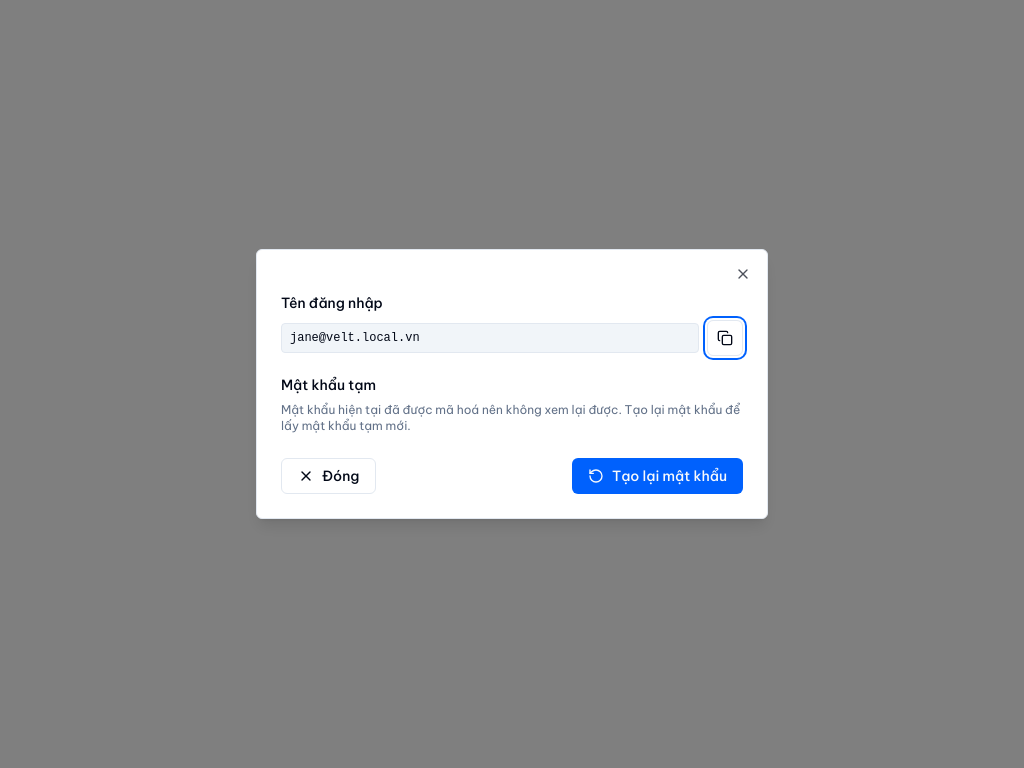
Test: UserCredentialsDialog › regenerate asks the server for a new temporary password and shows it
This screenshot has width=1024, height=768.
Expected: the text "Mật khẩu hiện tại đã được mã hoá nên không xem lại được. Tạo lại mật khẩu để lấy mật khẩu tạm mới." is shown, top-left (281, 402), bottom-right (740, 433)
Click the button "Tạo lại mật khẩu" at [657, 476], box top-left (572, 458), bottom-right (743, 494)
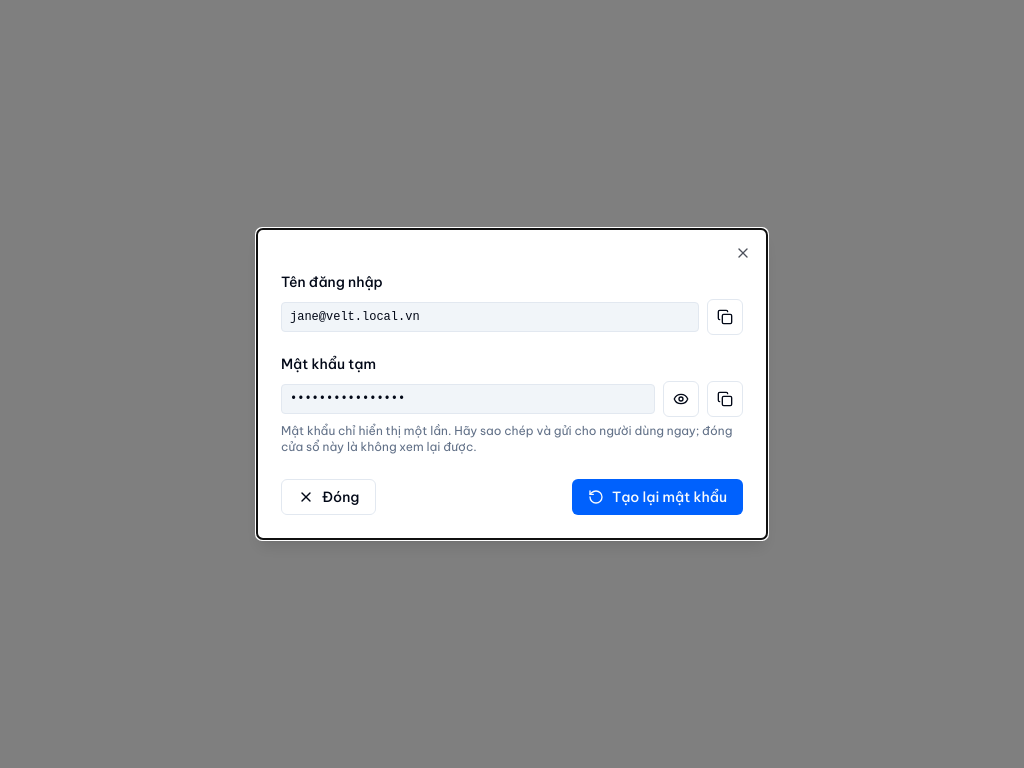
Expected: the text "FreshTempPass99" is not shown
Expected: the text "Mật khẩu chỉ hiển thị một lần. Hãy sao chép và gửi cho người dùng ngay; đóng cửa sổ này là không xem lại được." is shown, top-left (281, 423), bottom-right (732, 454)
Click the button named "Hiện mật khẩu" at [681, 399], box top-left (663, 381), bottom-right (699, 417)
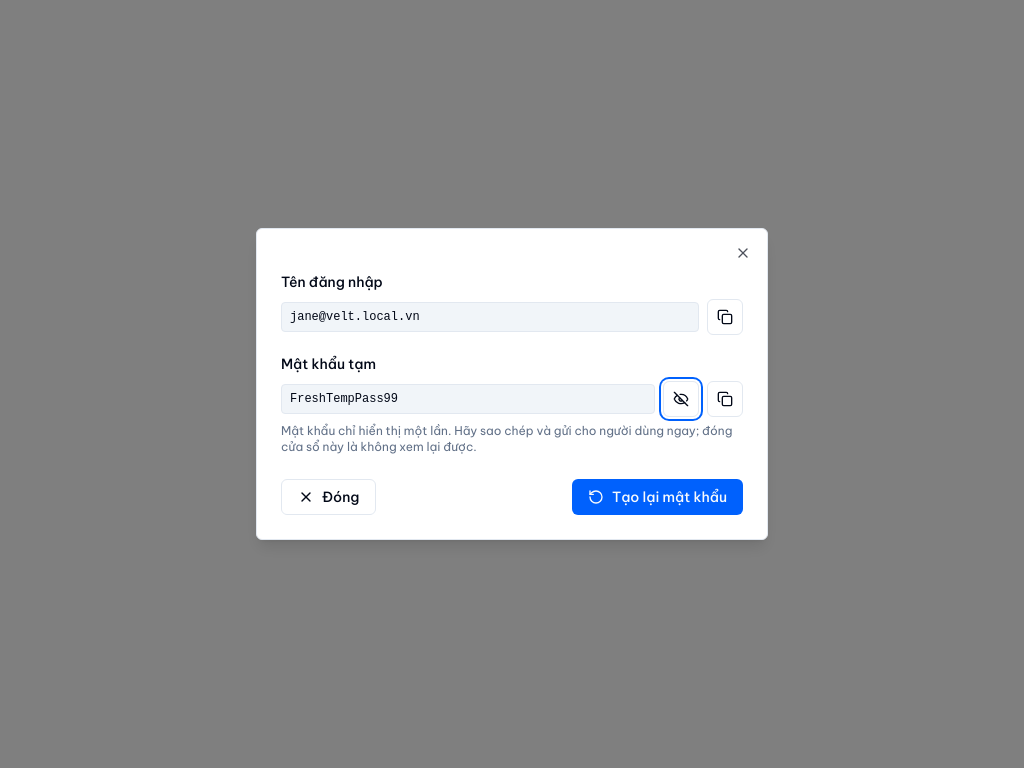
Expected: the text "FreshTempPass99" is shown, top-left (281, 384), bottom-right (655, 414)
